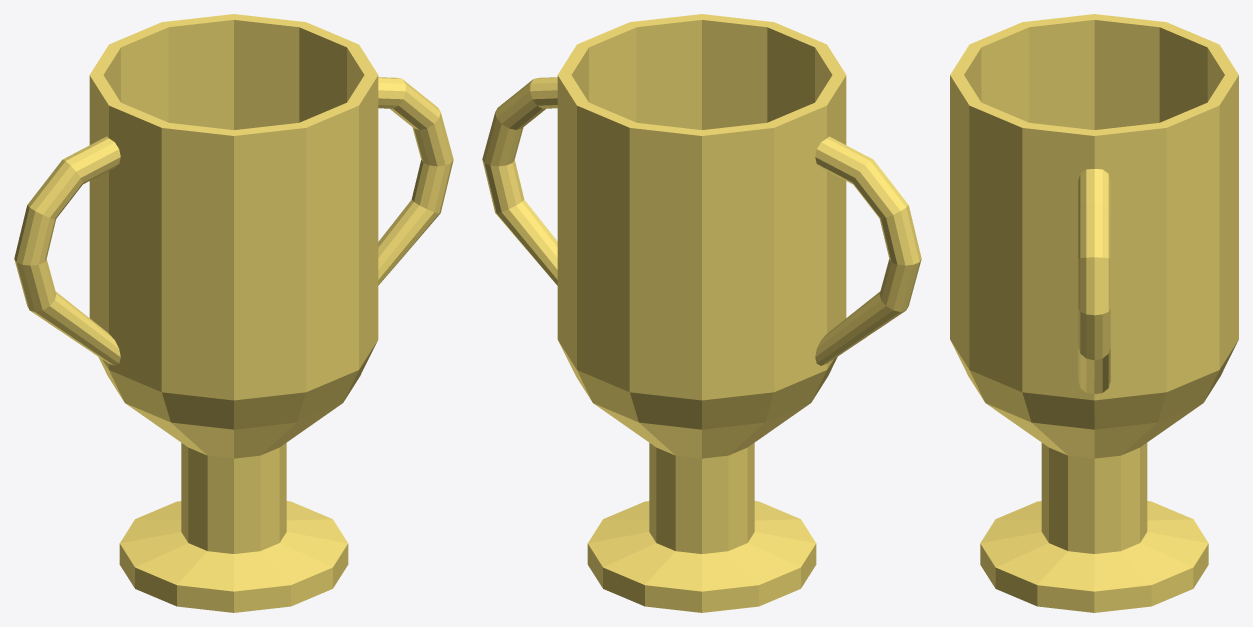
Rendered from winner_s_cup_1.fbx.
3 renders of one model, left to right at view 1: azimuth 30°, elevation 25°; view 2: azimuth 150°, elevation 25°; view 3: azimuth 270°, elevation 25°, orthographic.
Visible parts, largest first — view 1: winner_s_cup_1; view 2: winner_s_cup_1; view 3: winner_s_cup_1.
Part boxes in pixels (x1,y1,x2,y2): winner_s_cup_1: (14,14,453,612); winner_s_cup_1: (482,14,921,612); winner_s_cup_1: (950,14,1238,612).
Bounding box in the file's own units: 22.56 × 12.97 × 24.26.
